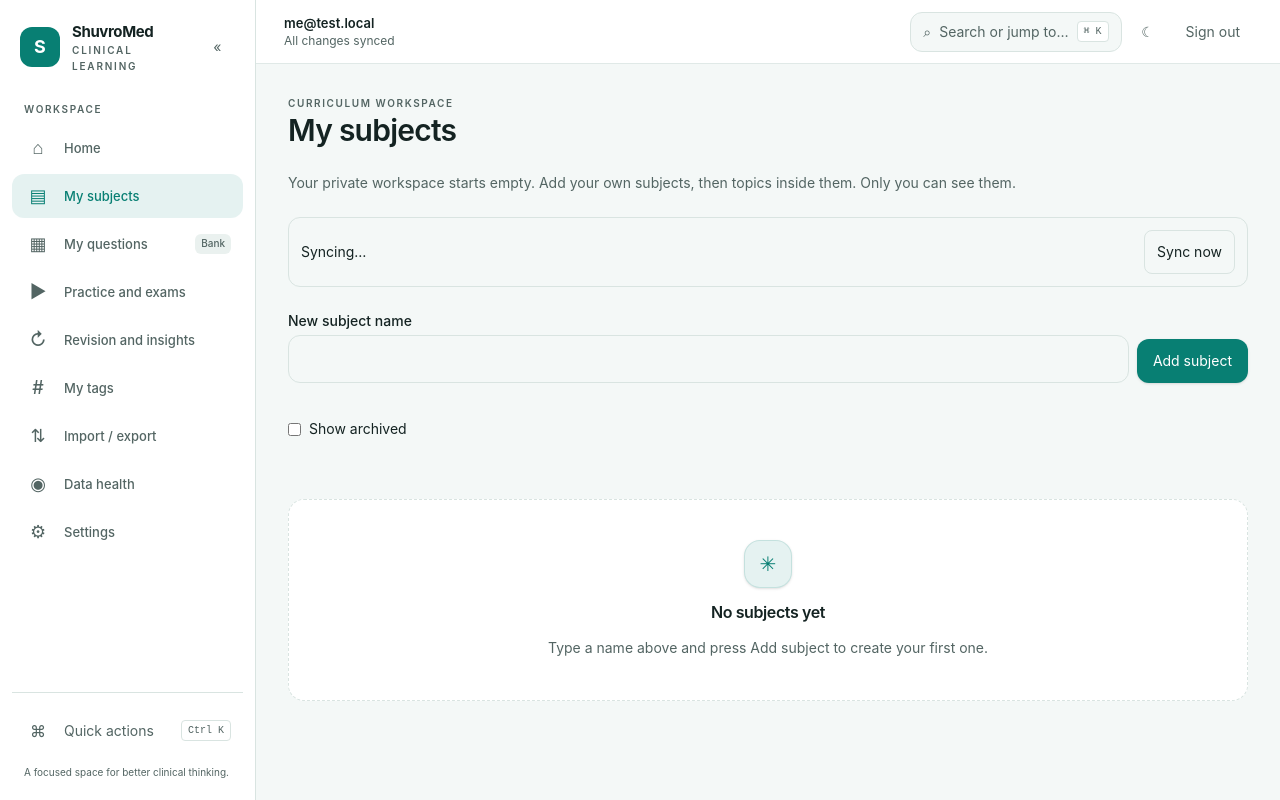
Test case: My subjects with the on-device store › tells you when the server refuses a change and lets you discard it
The width and height of the screenshot is (1280, 800).
Expected: the heading "No subjects yet" is shown, top-left (711, 600), bottom-right (825, 624)
Type "Clash" into the field labelled "New subject name" at (708,359), box top-left (288, 335), bottom-right (1129, 383)
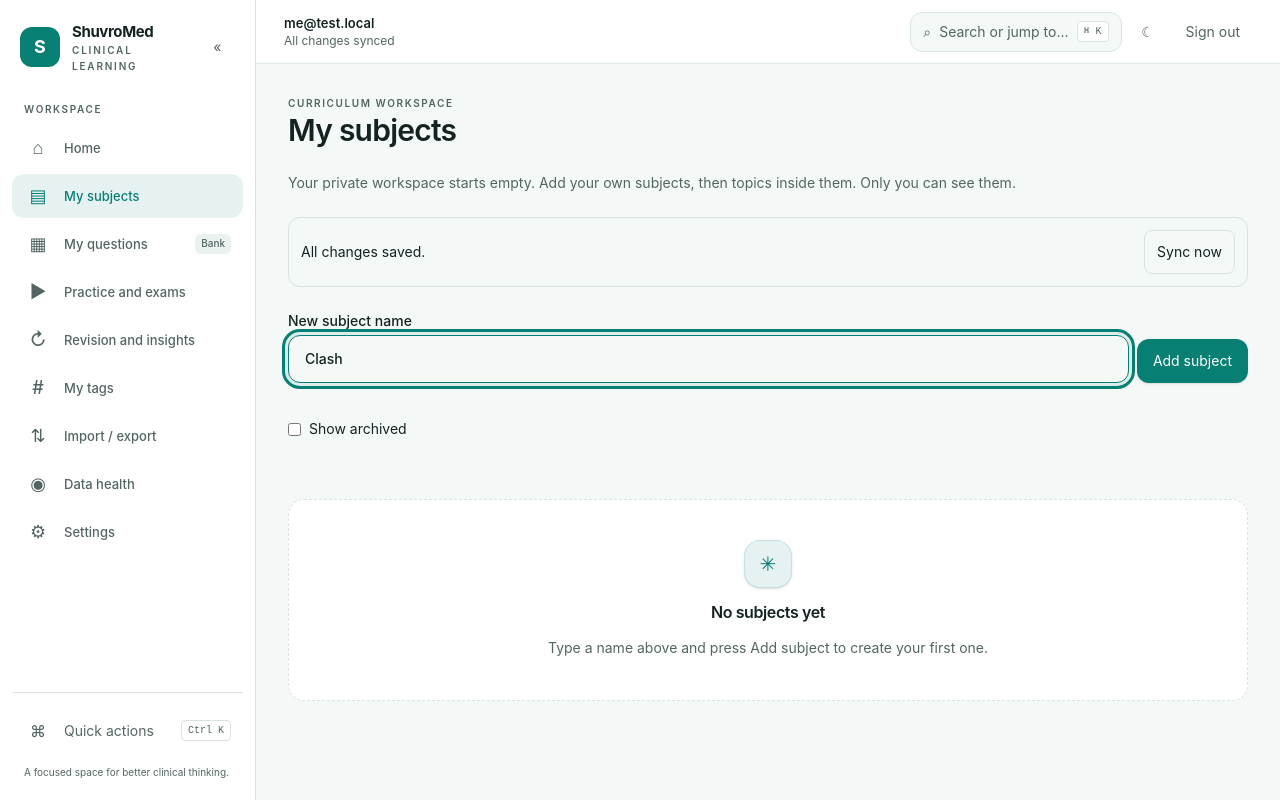
Click the button "Add subject" at (1192,361), box top-left (1137, 339), bottom-right (1248, 383)
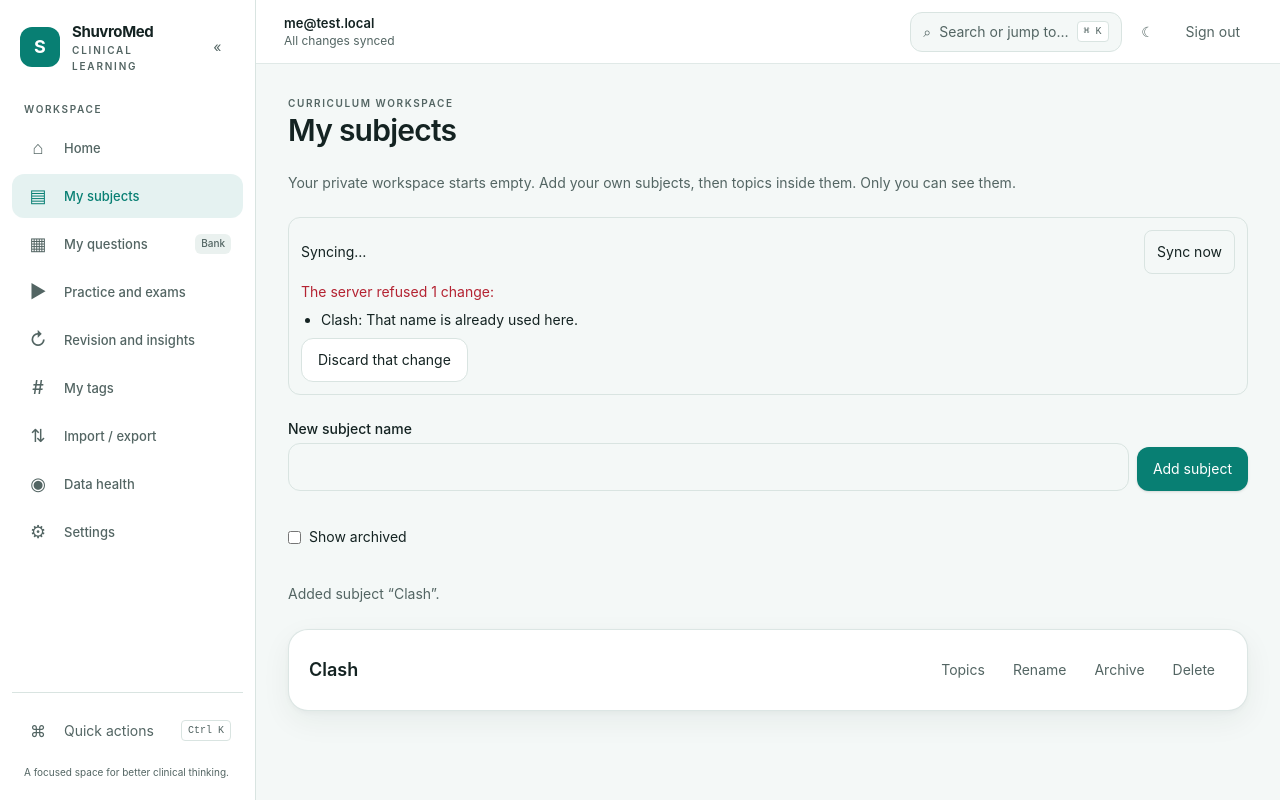
Expected: the text "The server refused 1 change:" is shown, top-left (301, 283), bottom-right (494, 300)
Click the button "Discard that change" at (384,360), box top-left (301, 338), bottom-right (468, 382)
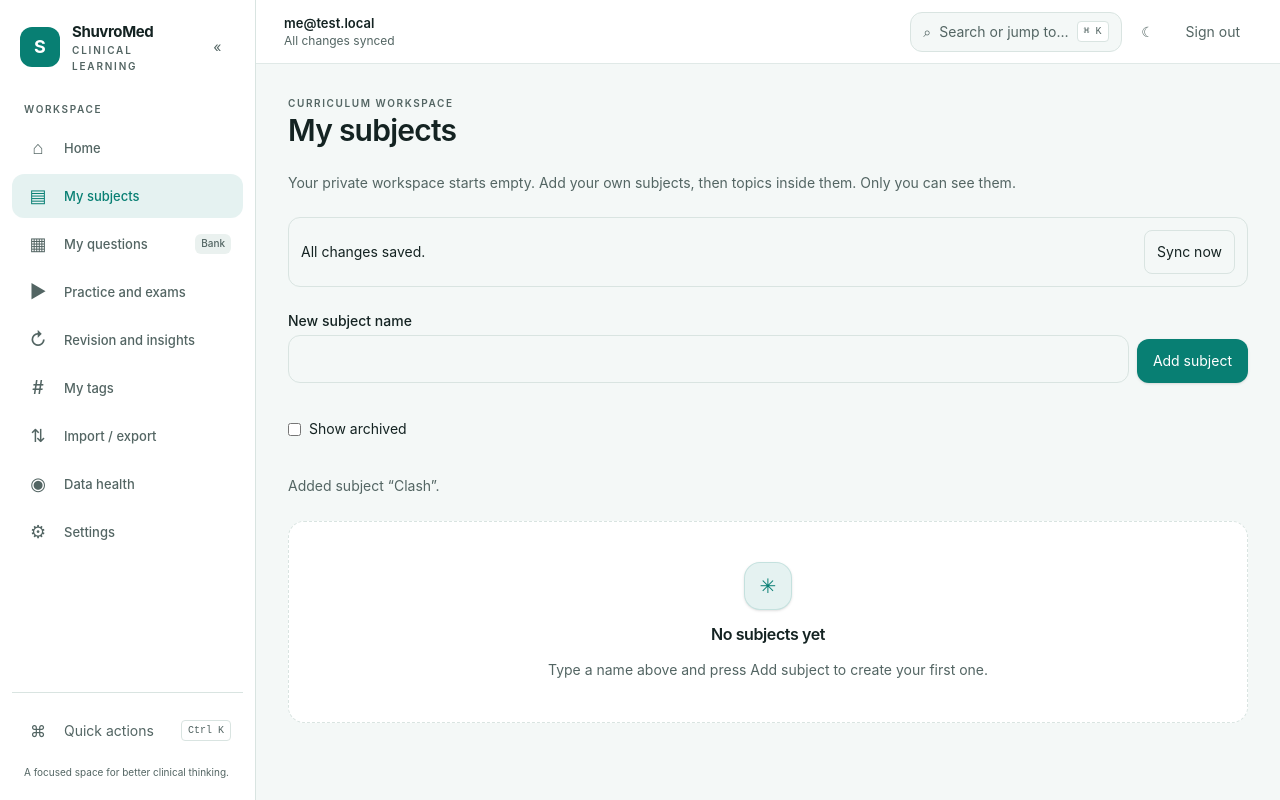
Expected: the text "The server refused" is gone
